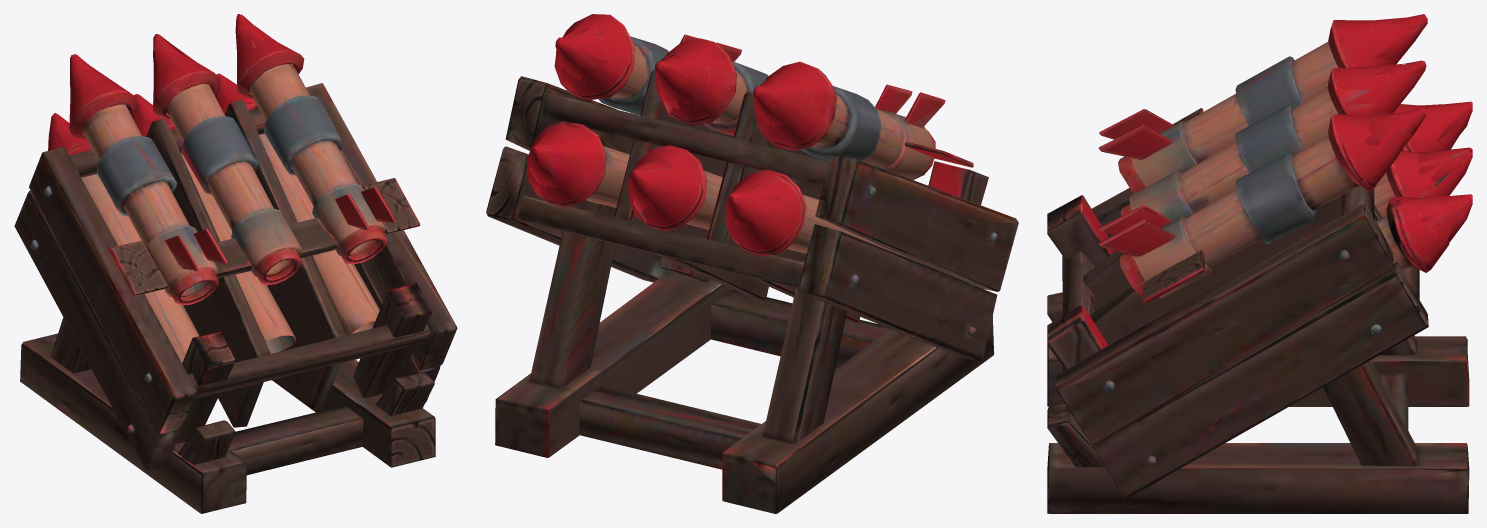
Rendered from rocket-rack.glb.
3 views of the same model, side by side, from view 1: azimuth 30°, elevation 25°; view 2: azimuth 150°, elevation 25°; view 3: azimuth 270°, elevation 25° (orthographic). The views are drawn at different scales.
Size of the model in its own units: 1.84 by 2 by 2.
Materials: 1 (1 with a texture image).
